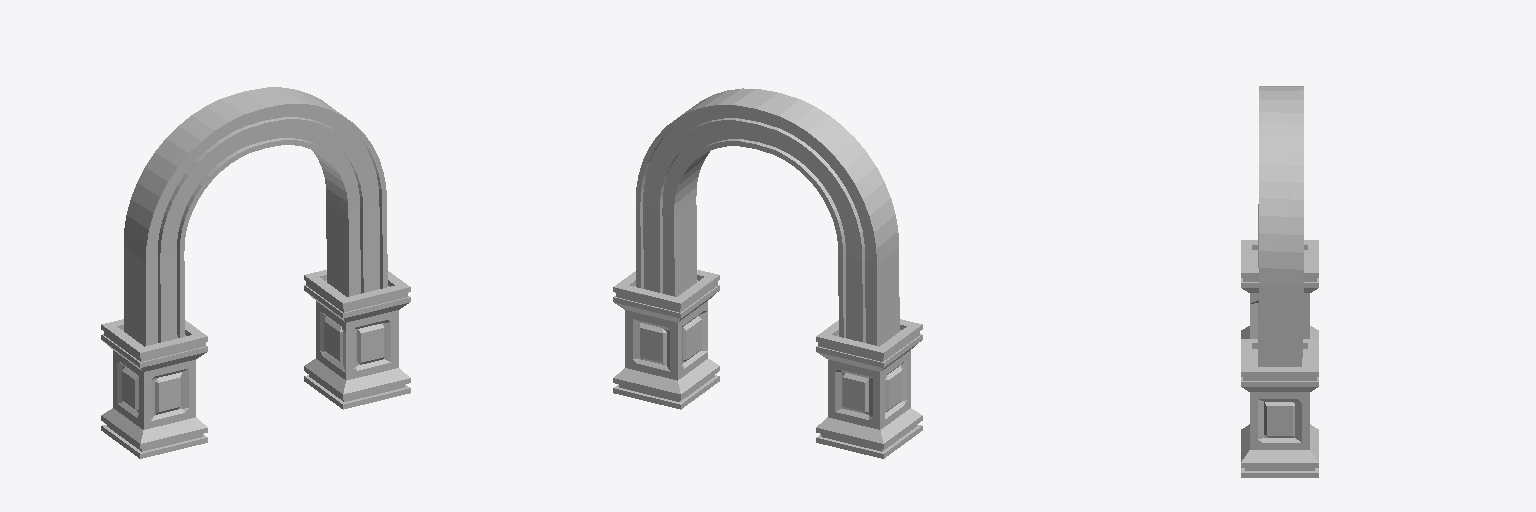
File: roman arch.obj
3 renders of one model, left to right at view 1: azimuth 30°, elevation 25°; view 2: azimuth 150°, elevation 25°; view 3: azimuth 270°, elevation 25°, orthographic.
Parts seen in each view (by area): view 1: Cube.001; view 2: Cube.001; view 3: Cube.001.
Boxes of the visible parts, box(x1,y1,x2,y2) form: Cube.001: box(101, 87, 410, 458); Cube.001: box(613, 88, 922, 458); Cube.001: box(1241, 86, 1318, 477).
Bounding box in the file's own units: 1.6 × 1.76 × 0.4.